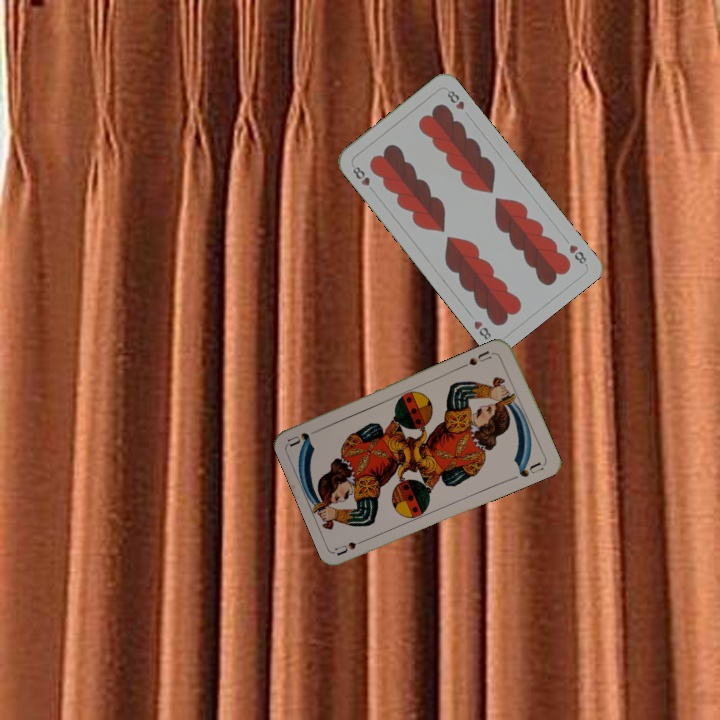H8: (348, 162, 378, 195), (565, 240, 589, 268)
SU: (332, 533, 372, 557), (459, 347, 499, 370)
